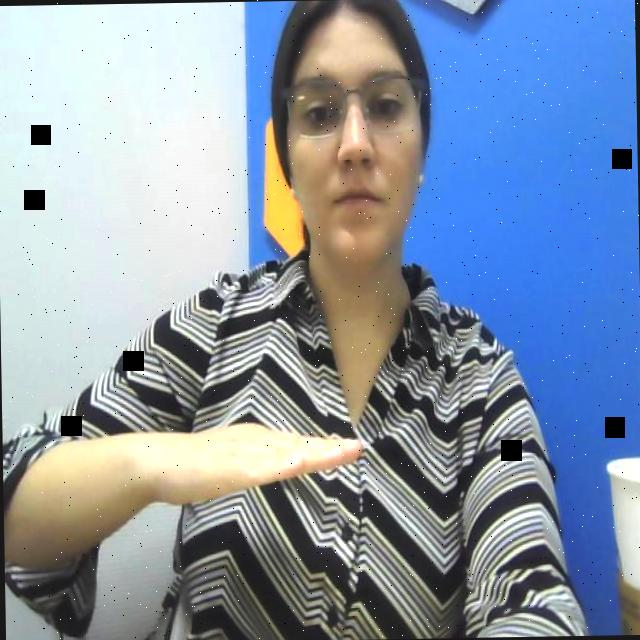Paper: (133, 409, 370, 508)
